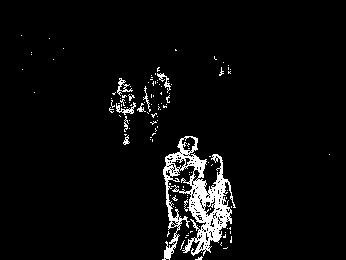person: (188, 151, 239, 260), (162, 133, 201, 260), (138, 65, 172, 141), (109, 78, 137, 147)
